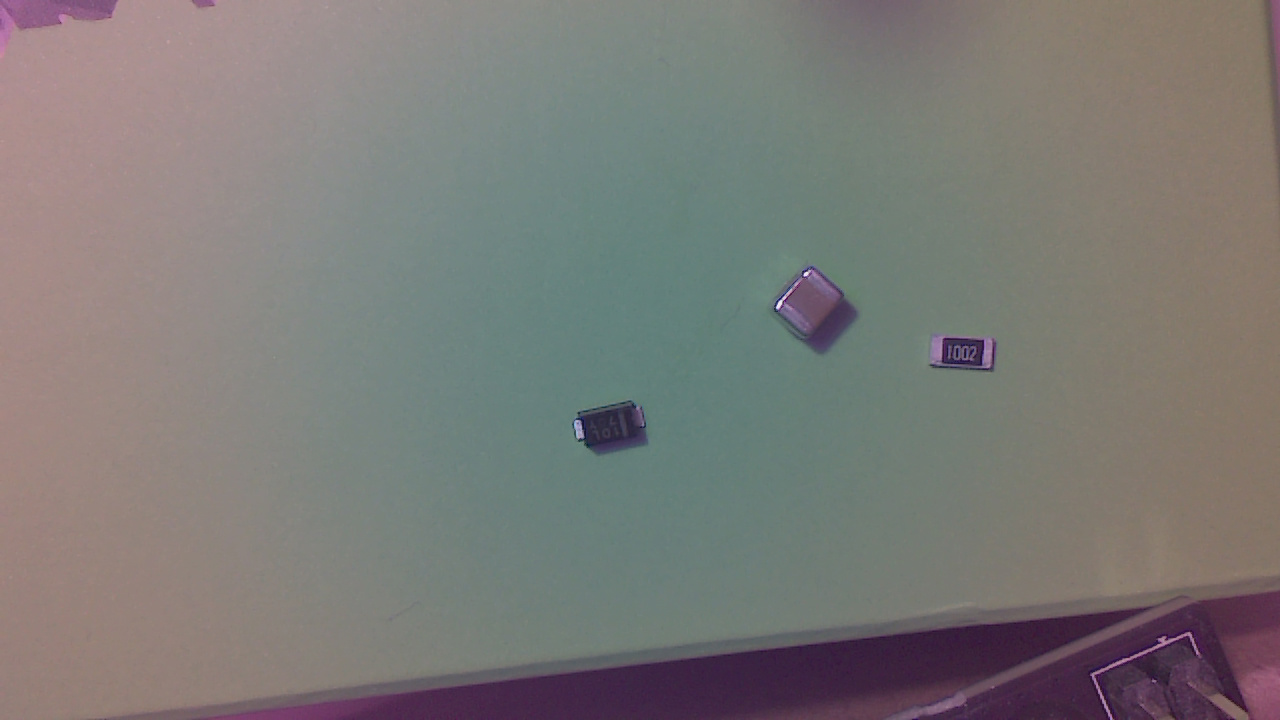Condensator: (775, 274, 849, 342)
Diode: (576, 406, 652, 455)
Resistor: (931, 339, 1003, 381)
